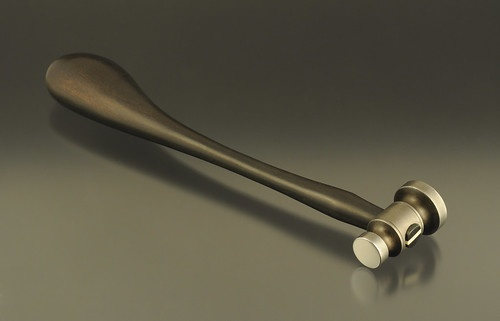hammer: (43, 50, 449, 272)
